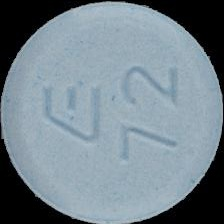61919-676: (0, 0, 224, 224)
